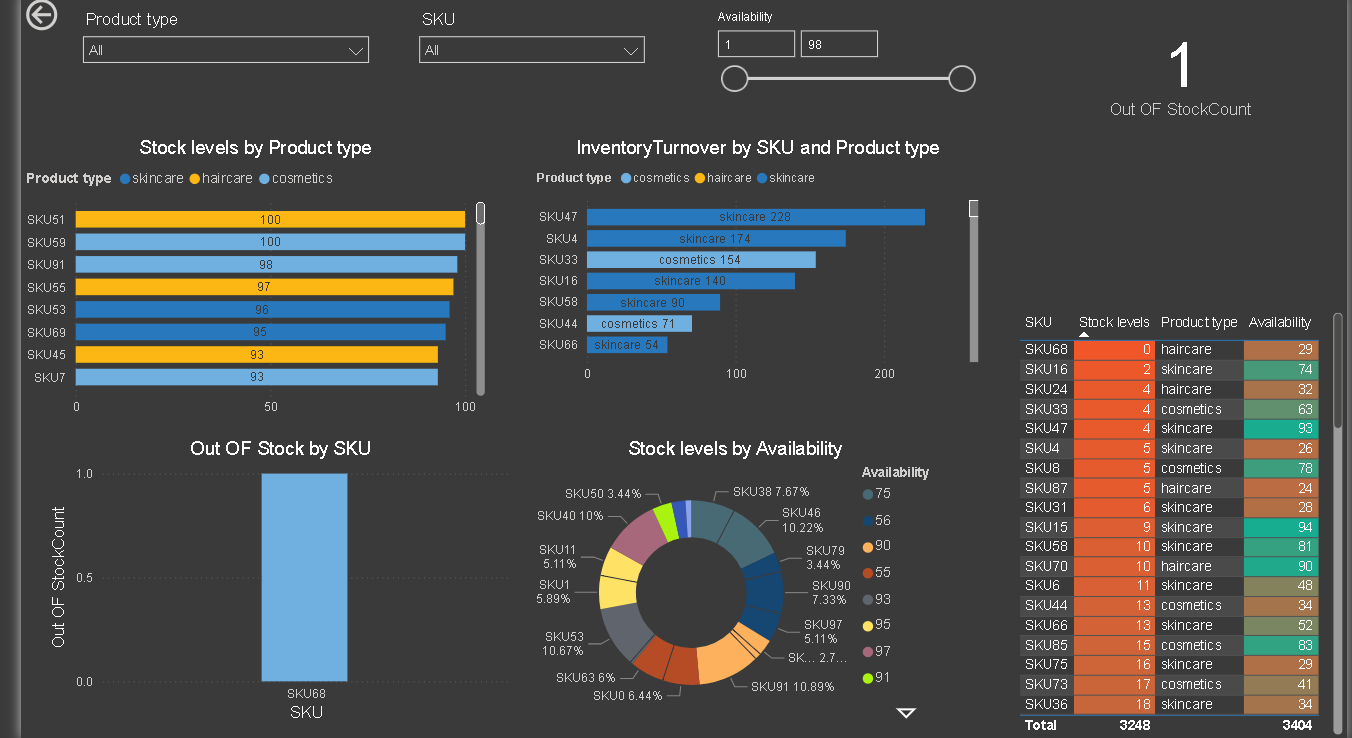

What the dashboard file says about the page in this screenshot:
{"tool":"powerbi","page":{"name":"Inventory Managment","canvas":[1280,720],"ordinal":1},"visuals":[{"type":"barChart","title":"Stock levels by Product type","fields":{"Y":["Sum(supply_chain_data.Stock levels)"],"Category":["supply_chain_data.SKU"],"Series":["supply_chain_data.Product type"]},"box":[0,137.2,452.8,277.2],"z":0},{"type":"tableEx","fields":{"Values":["supply_chain_data.SKU","Sum(supply_chain_data.Stock levels)","supply_chain_data.Product type","Sum(supply_chain_data.Availability)"]},"box":[957.8,303.3,322.5,417.2],"z":1000},{"type":"card","fields":{"Values":["BaseMeasures.Out OF StockCount"]},"box":[980.8,9.7,277.5,127.9],"z":2000},{"type":"clusteredColumnChart","title":"Out OF Stock by SKU","fields":{"Category":["supply_chain_data.SKU"],"Y":["BaseMeasures.Out OF StockCount"]},"box":[24.1,428.3,453.6,278.7],"z":3000},{"type":"columnChart","fields":{"Category":["supply_chain_data.SKU"],"Y":["BaseMeasures.InventoryTurnover"],"Series":["supply_chain_data.Product type"]},"box":[493.4,137.5,435.5,244.9],"z":4000},{"type":"donutChart","title":"Stock levels by Availability","fields":{"Category":["supply_chain_data.Availability"],"Y":["Sum(supply_chain_data.Stock levels)"],"Series":["supply_chain_data.SKU"]},"box":[477.5,428.1,422.6,278.6],"z":5000},{"type":"slicer","fields":{"Values":["supply_chain_data.Product type"]},"box":[49.5,9.7,296.8,101.3],"z":6000},{"type":"slicer","fields":{"Values":["supply_chain_data.SKU"]},"box":[374,9.7,237.7,92.9],"z":7000},{"type":"slicer","fields":{"Values":["supply_chain_data.Availability"]},"box":[659.9,9.7,269,96.5],"z":8000},{"type":"actionButton","box":[0,0,100,40],"z":9000}]}

Visuals, with their boxes on the page's 1280x720 design canvas (x1, y1, x2, y2). These are canvas units, not pixel positions in the 1352x738 screenshot, which may show the page scaled, cropped or inside an application window:
"Stock levels by Product type" barChart: x1=0 y1=137 x2=453 y2=414
tableEx - supply_chain_data.SKU x Sum(supply_chain_data.Stock levels): x1=958 y1=303 x2=1280 y2=720
card - BaseMeasures.Out OF StockCount: x1=981 y1=10 x2=1258 y2=138
"Out OF Stock by SKU" clusteredColumnChart: x1=24 y1=428 x2=478 y2=707
columnChart - supply_chain_data.SKU x BaseMeasures.InventoryTurnover: x1=493 y1=138 x2=929 y2=382
"Stock levels by Availability" donutChart: x1=478 y1=428 x2=900 y2=707
slicer - supply_chain_data.Product type: x1=50 y1=10 x2=346 y2=111
slicer - supply_chain_data.SKU: x1=374 y1=10 x2=612 y2=103
slicer - supply_chain_data.Availability: x1=660 y1=10 x2=929 y2=106
actionButton: x1=0 y1=0 x2=100 y2=40
